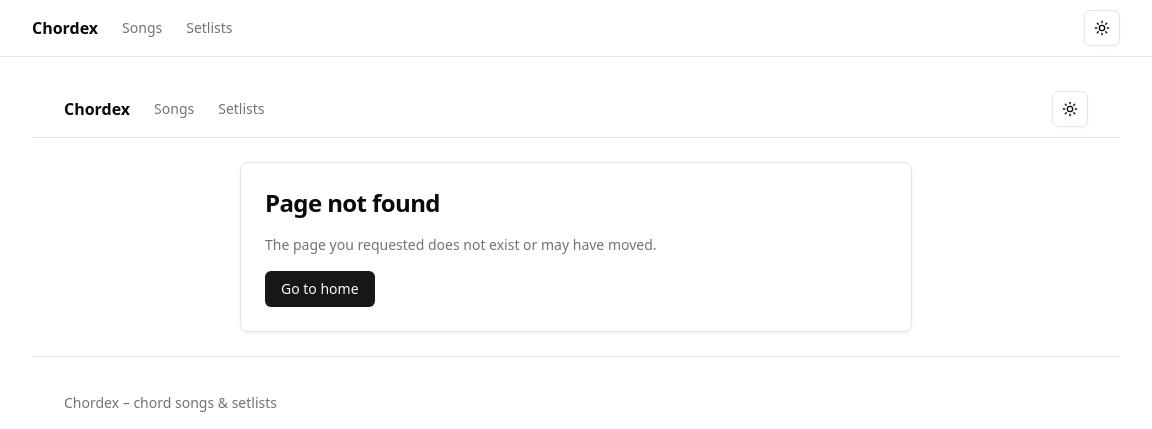
root route resilience › renders not found UI for unknown routes and navigates home
The width and height of the screenshot is (1152, 429).
Expected: the heading "Page not found" is shown, [265,186,440,219]
What coordinates should you click on to do the following:
click the link "Go to home"
I would click on:
 (320, 289)
Its box is [265,271,375,307].
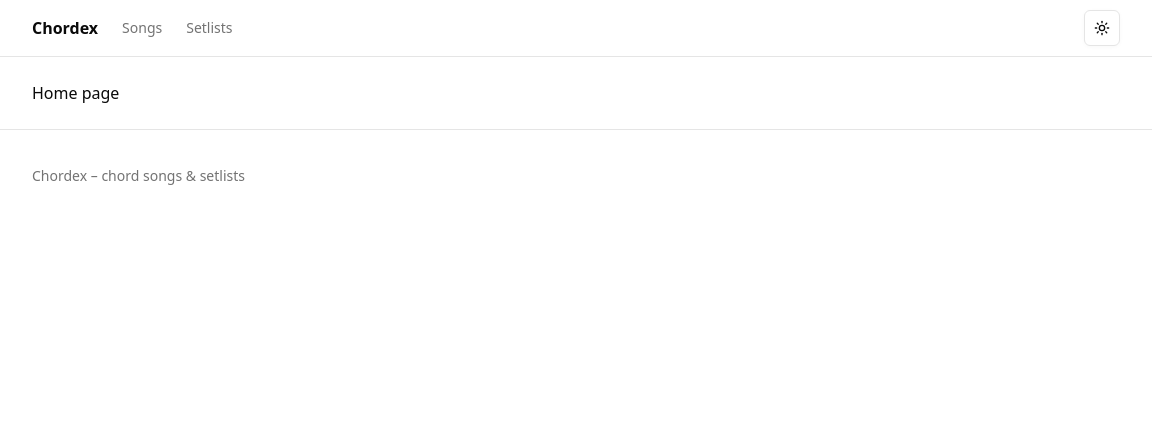
Result: the heading "Home page" is shown at [32,82,119,104]
